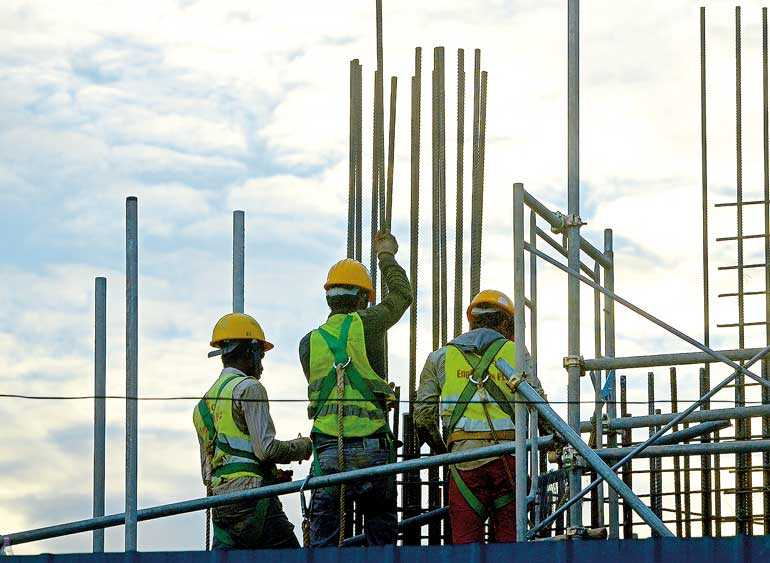hard hat: (208, 312, 276, 352), (324, 259, 376, 299), (468, 286, 518, 322)
high-vis: (304, 312, 393, 434), (441, 325, 526, 428), (191, 370, 266, 479)
